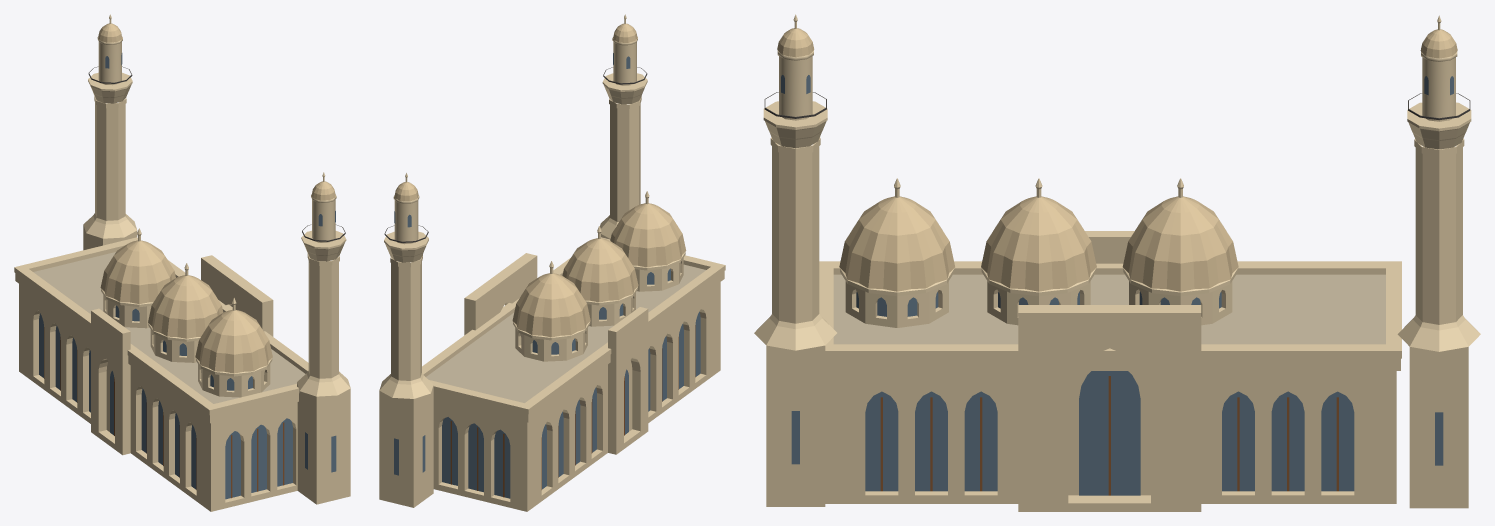
The model's file is baku-bibi-heybat-mosque.glb.
3 views of the same model, side by side, from view 1: azimuth 30°, elevation 25°; view 2: azimuth 150°, elevation 25°; view 3: azimuth 270°, elevation 25° (orthographic). The views are drawn at different scales.
Parts seen in each view (by area): view 1: Bibi-Heybat Mosque; view 2: Bibi-Heybat Mosque; view 3: Bibi-Heybat Mosque.
Part boxes in pixels (<box>): Bibi-Heybat Mosque: <box>14,14,350,511</box>; Bibi-Heybat Mosque: <box>379,14,725,511</box>; Bibi-Heybat Mosque: <box>754,14,1480,511</box>.
Size of the model in its own units: 20.17 by 44.91 by 61.57.
